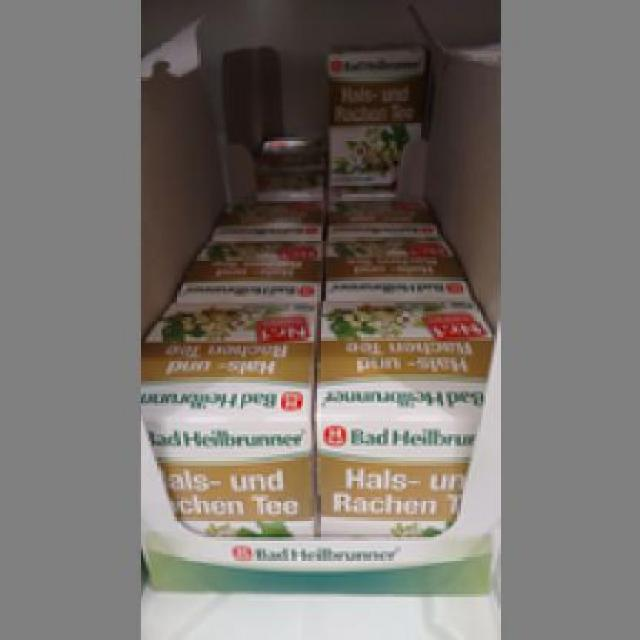Tea: (137, 297, 314, 532), (314, 294, 486, 534), (323, 40, 428, 189)
